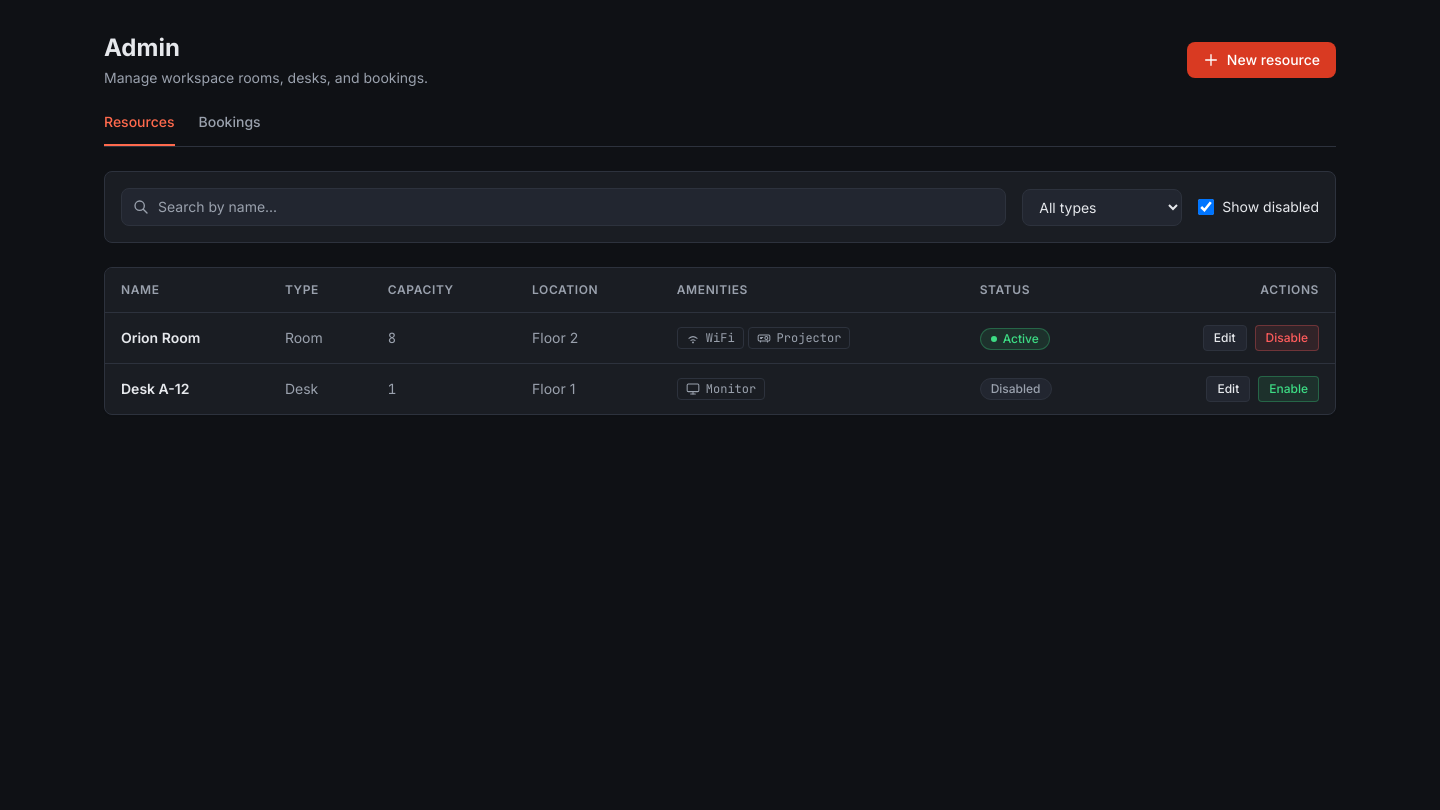
Test: Admin Page › handles edit resource flow and shows admin notice
Click the button "Edit" in the row of "Orion Room" at (1225, 338), box [1203,325,1247,351]
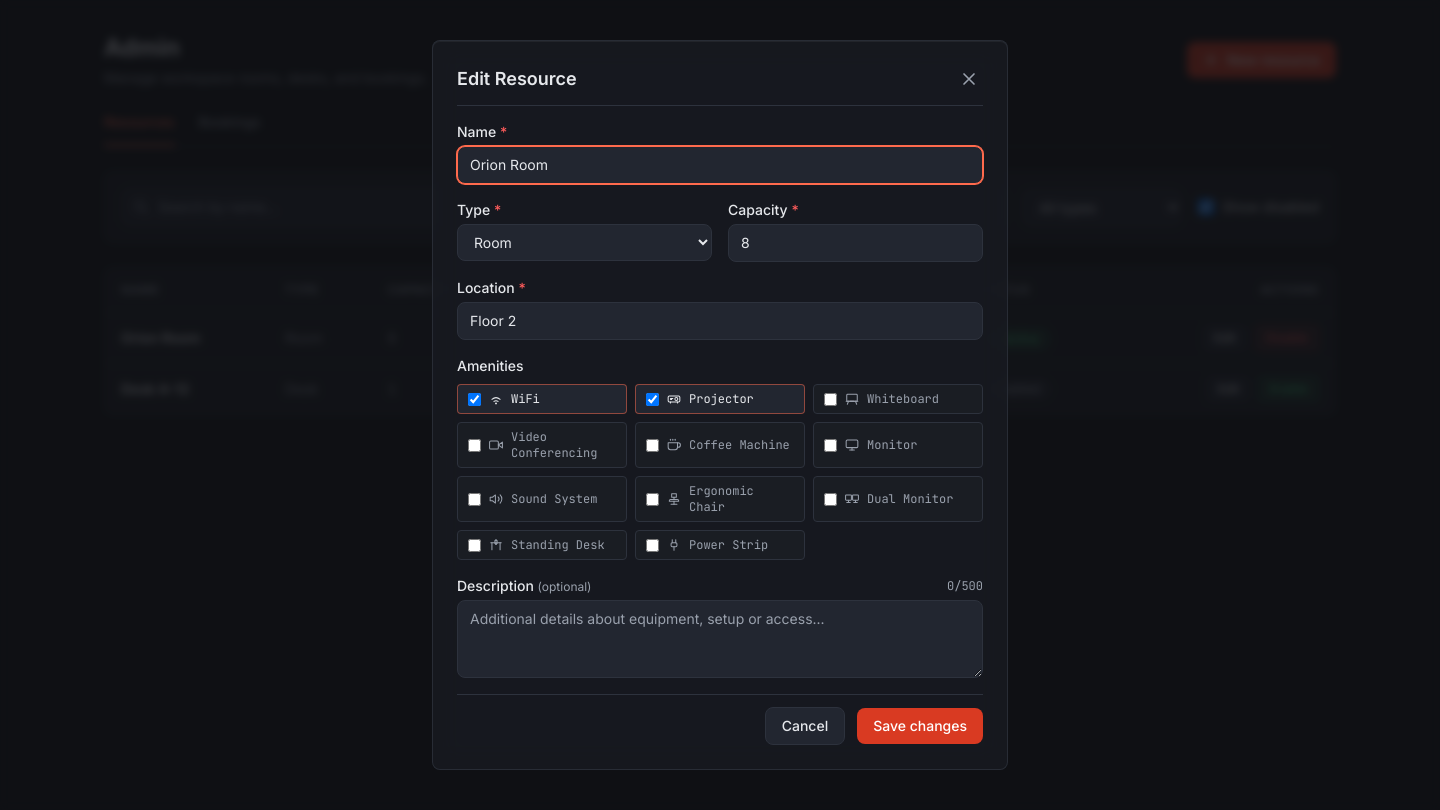
Now the heading "Edit Resource" is shown, box [457,65,577,93]
Now the field labelled "Name *" holds "Orion Room"
Replace the text in the field labelled "Name *" with "Orion Room Renamed" at (720, 165), box [457,146,983,184]
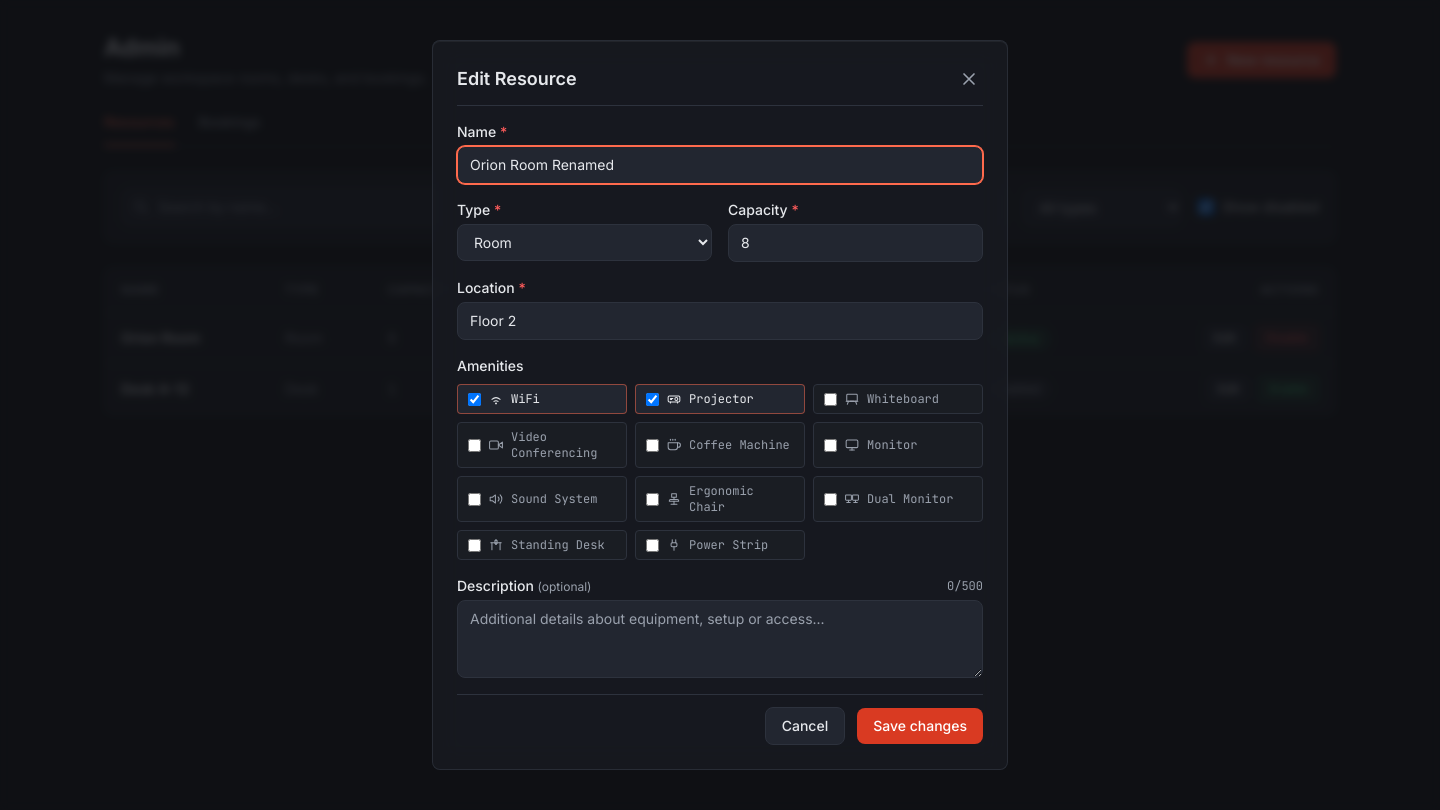
Click the button "Save changes" at (920, 726), box [857,708,983,744]
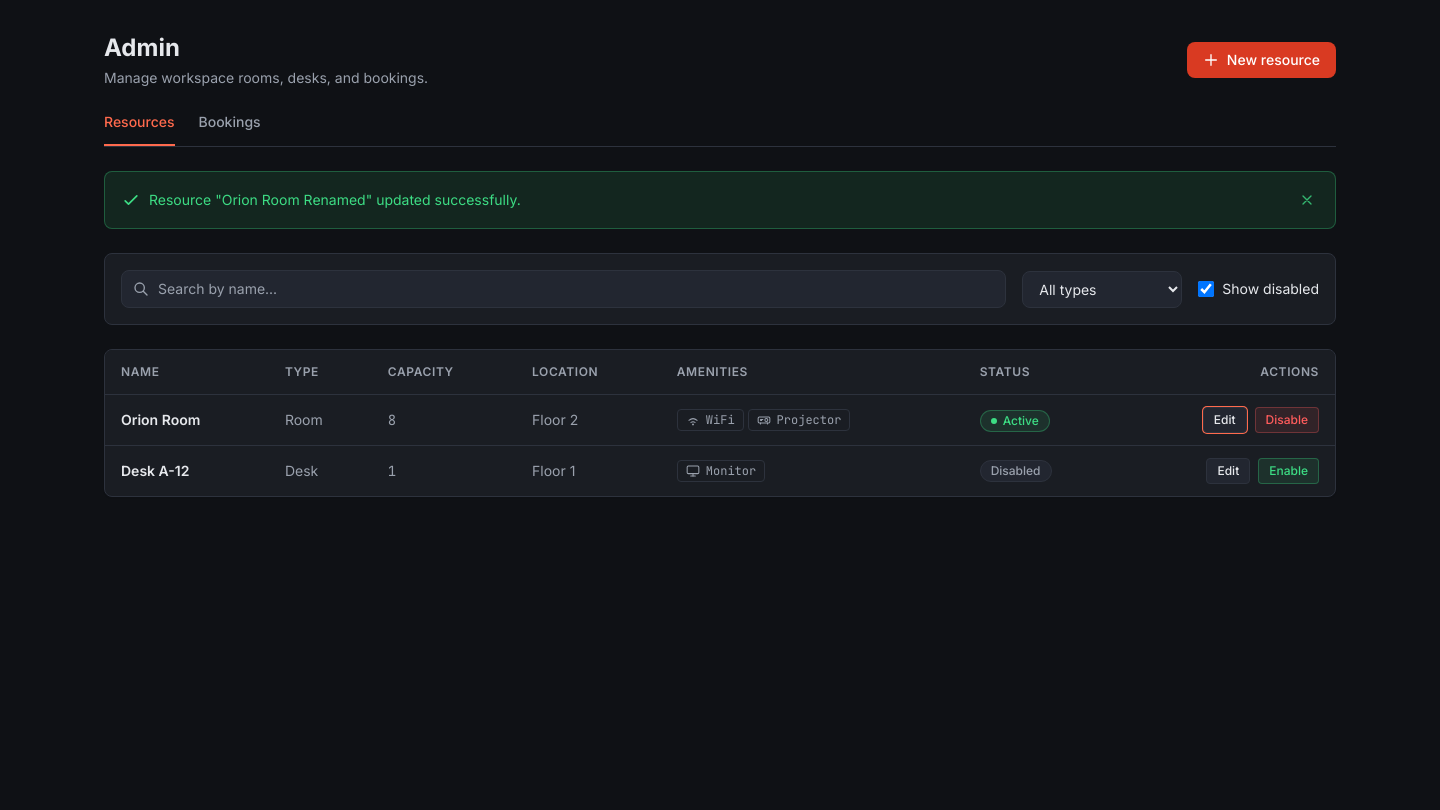
Now the message with test id "admin-notice" reads "Resource \"Orion Room Renamed\" updated successfully.", box [149,191,521,208]
